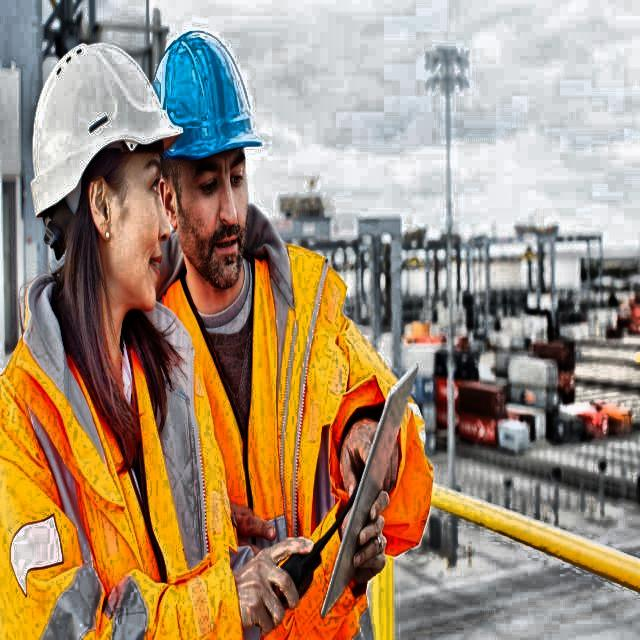person: (162, 5, 446, 628), (21, 25, 200, 640)
